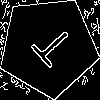T: (23, 22, 77, 75)
